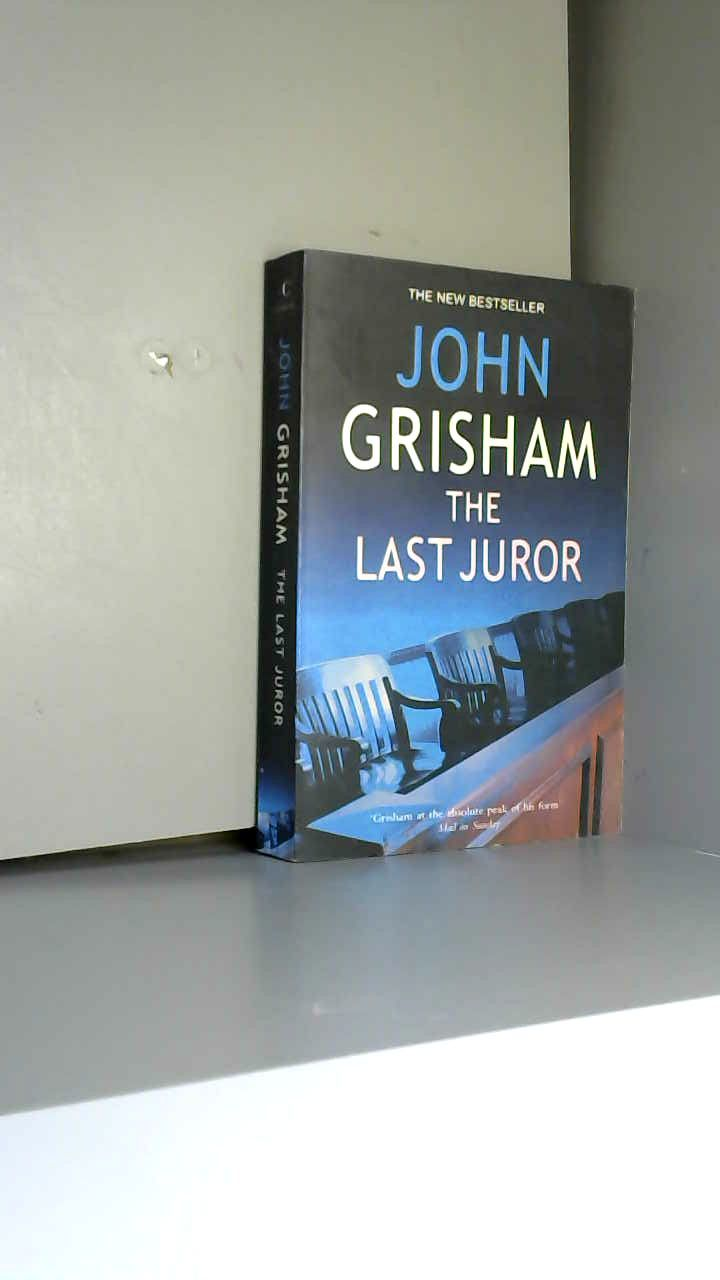book: (230, 220, 720, 894)
